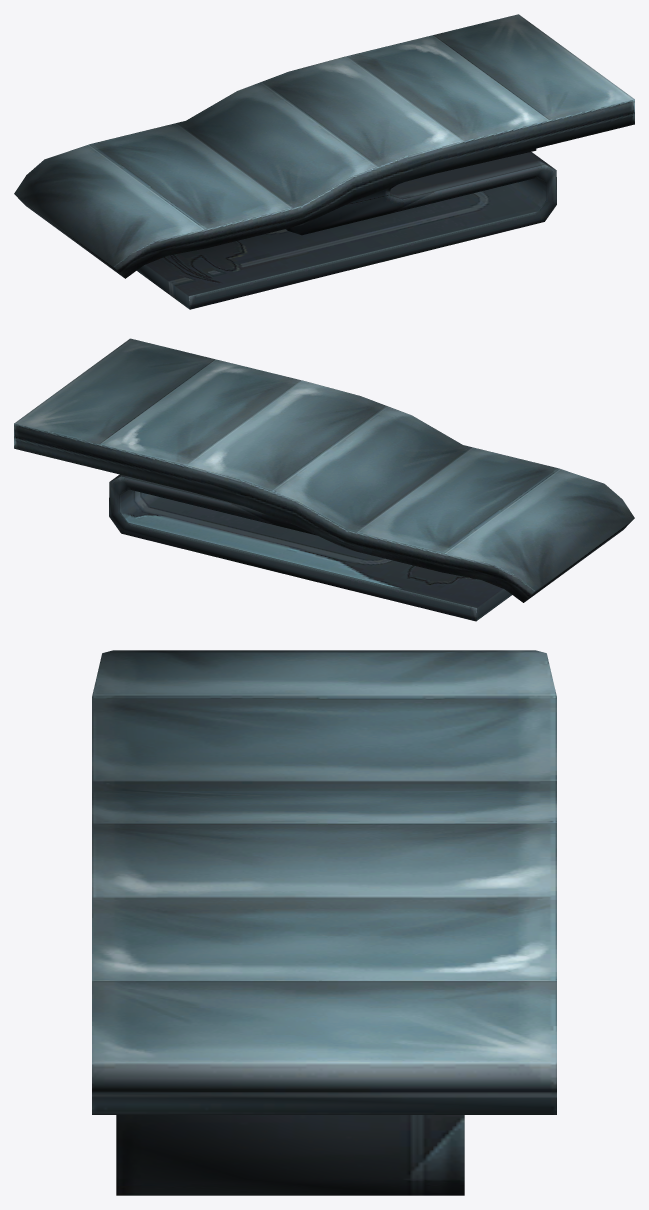
The picture shows the model from 3 angles, top to bottom: view 1: azimuth 30°, elevation 25°; view 2: azimuth 150°, elevation 25°; view 3: azimuth 270°, elevation 25°; orthographic projection. The views are drawn at different scales.
Parts seen in each view (by area): view 1: Line03; view 2: Line03; view 3: Line03.
Boxes of the visible parts, x1,y1,x2,y2 form: Line03: (14,14,634,309); Line03: (14,338,634,621); Line03: (92,650,556,1195).
Bounding box in the file's own units: 117 × 23.48 × 45.95.
1 material, 1 textured.
